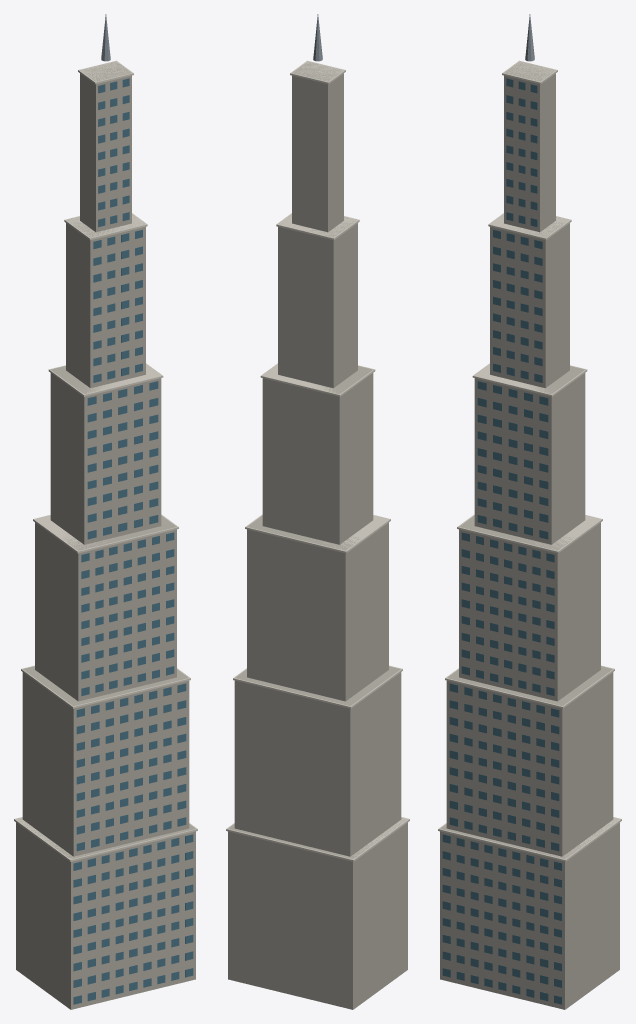
3 views of the same model, side by side, from view 1: azimuth 30°, elevation 25°; view 2: azimuth 150°, elevation 25°; view 3: azimuth 330°, elevation 25° (orthographic).
Parts seen in each view (by area): view 1: worldgen; view 2: worldgen; view 3: worldgen.
Boxes of the visible parts, x1,y1,x2,y2 form: worldgen: (14,14,197,1009); worldgen: (226,14,409,1009); worldgen: (438,14,621,1009).
Bounding box in the file's own units: 52.98 × 381 × 40.51.
